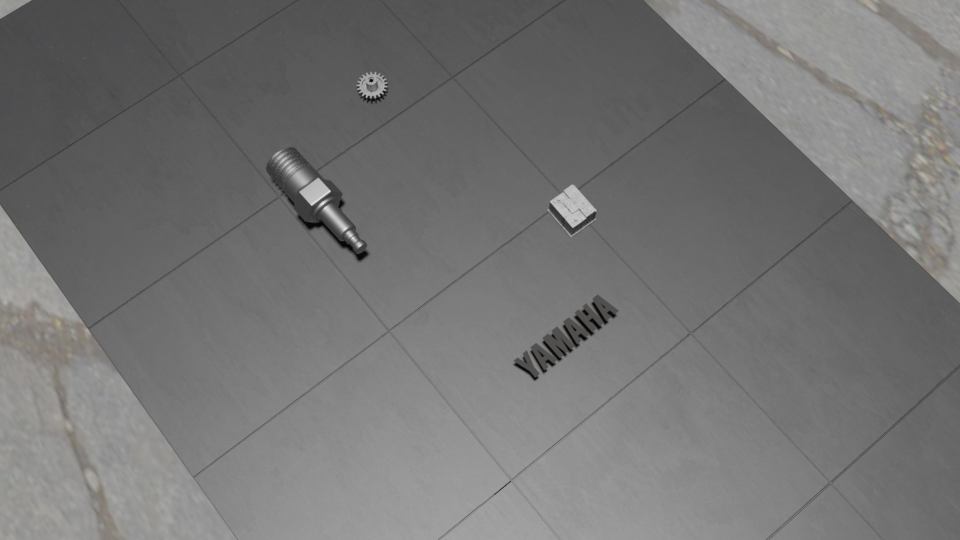yamaha_letters: (513, 293, 619, 377)
